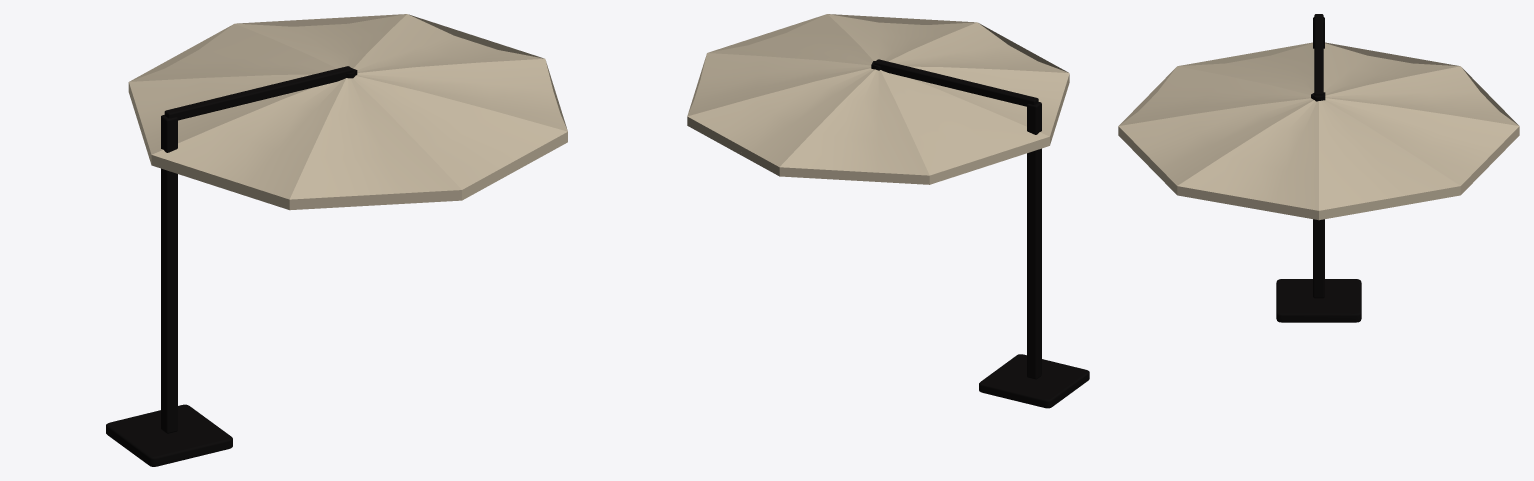
Rendered from cantilever-umbrella-lod2.glb.
The picture shows the model from 3 angles, left to right: view 1: azimuth 30°, elevation 25°; view 2: azimuth 150°, elevation 25°; view 3: azimuth 270°, elevation 25°; orthographic projection. The views are drawn at different scales.
Parts seen in each view (by area): view 1: Natural canvas canopy, Powder-coated bronze aluminium; view 2: Natural canvas canopy, Powder-coated bronze aluminium; view 3: Natural canvas canopy, Powder-coated bronze aluminium.
Boxes of the visible parts, left/top/right/bottom form: Natural canvas canopy: left=128, top=14, right=567, bottom=210; Powder-coated bronze aluminium: left=106, top=66, right=357, bottom=466; Natural canvas canopy: left=687, top=14, right=1069, bottom=184; Powder-coated bronze aluminium: left=871, top=59, right=1089, bottom=408; Natural canvas canopy: left=1118, top=42, right=1519, bottom=220; Powder-coated bronze aluminium: left=1276, top=14, right=1361, bottom=322.
Bounding box in the file's own units: 3.56 × 2.68 × 3.35.
